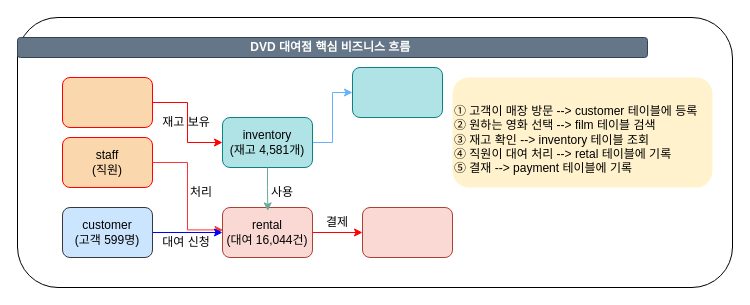
This 750x305 diagram has some shape labels left out. The centre of each missing label's shape, as x and y in pixels:
"film (영화 1,000편)" belongs at [397,92].
"payment (결제 16,044건)" belongs at [407,232].
"store (매장)" belongs at [107,102].
